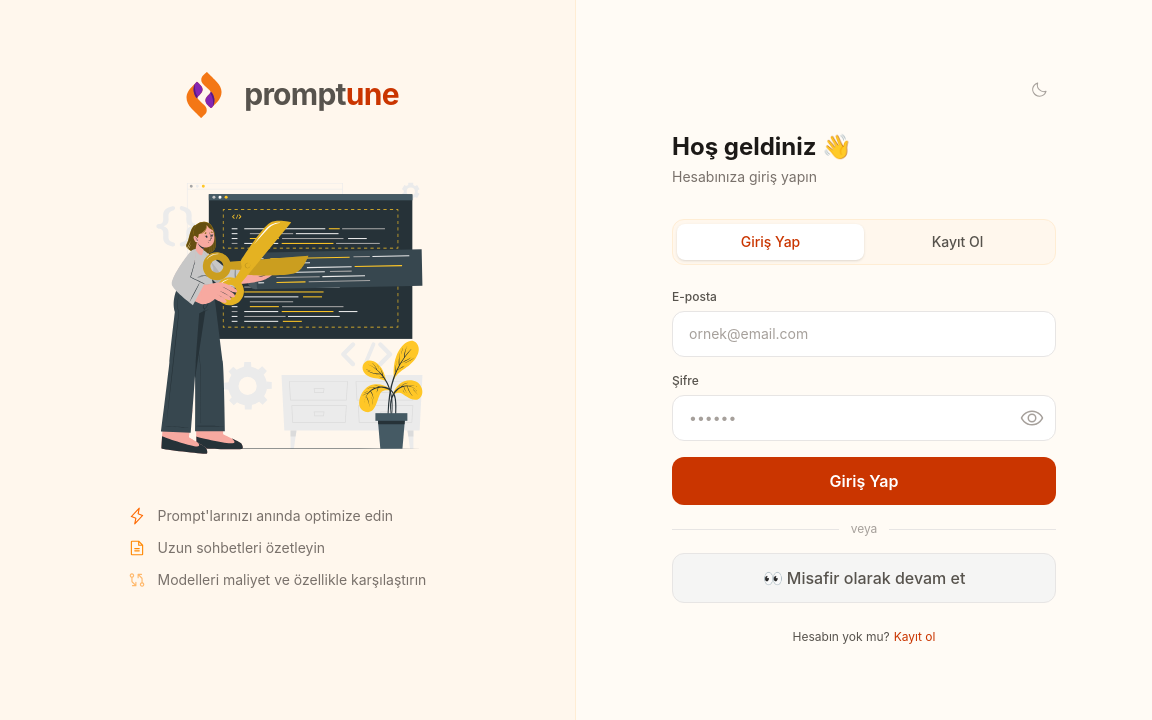
Scenario: Auth MSW — sunucu hata döndürünce › 401 gelince hata mesajı ekranda görünmeli
The image size is (1152, 720).
Type "yanlis@test.com" into the field with placeholder "ornek@email.com". click: point(864, 334)
box: [672,311,1056,357]
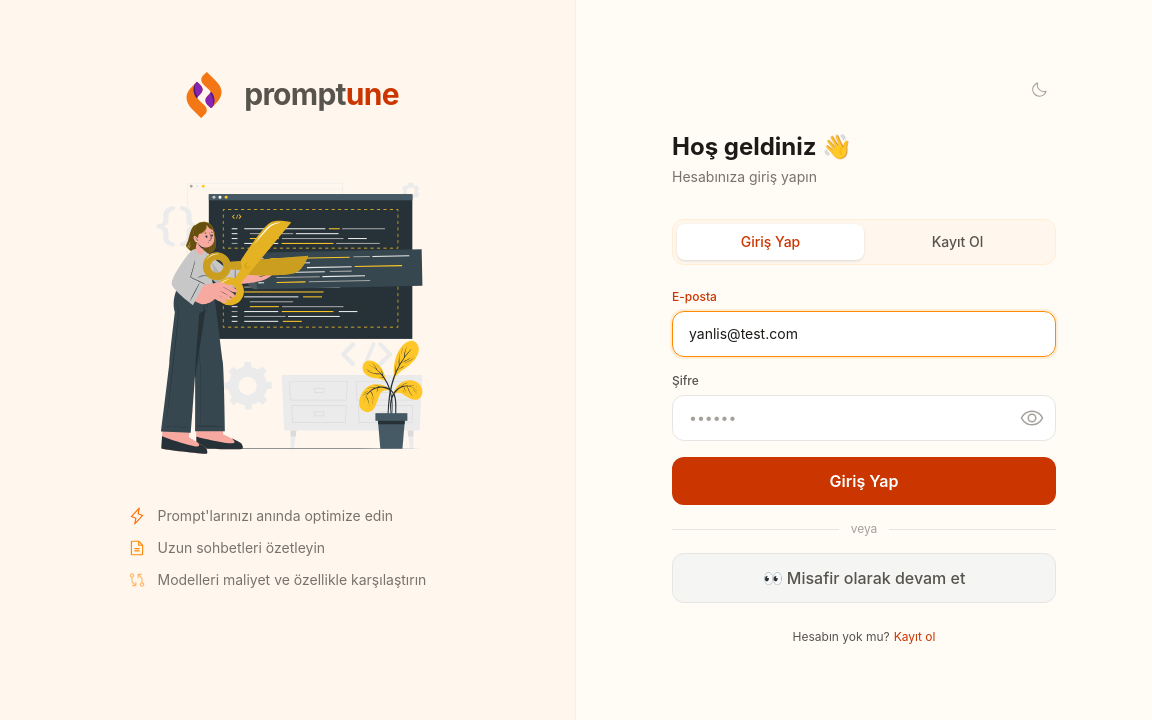
Type "yanlis" into the password field with placeholder "••••••". click: point(864, 418)
box: [672,395,1056,441]
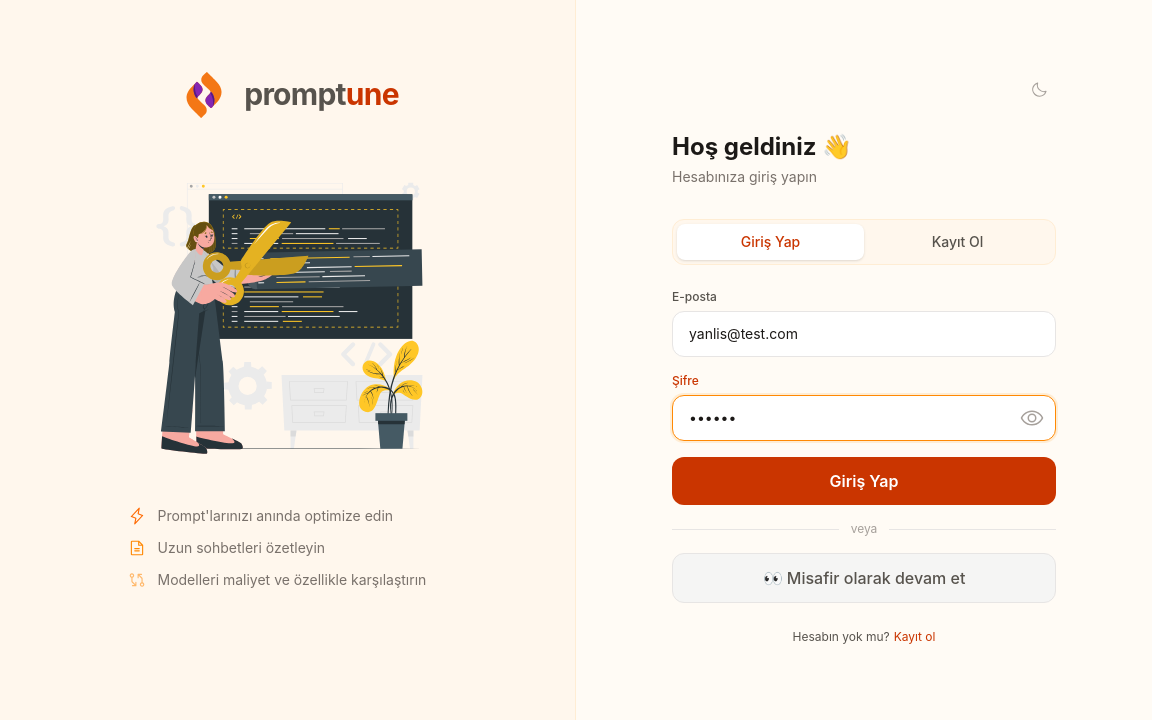
Click the button "Giriş Yap" below "Şifre". click: point(864, 481)
box: [672,457,1056,505]
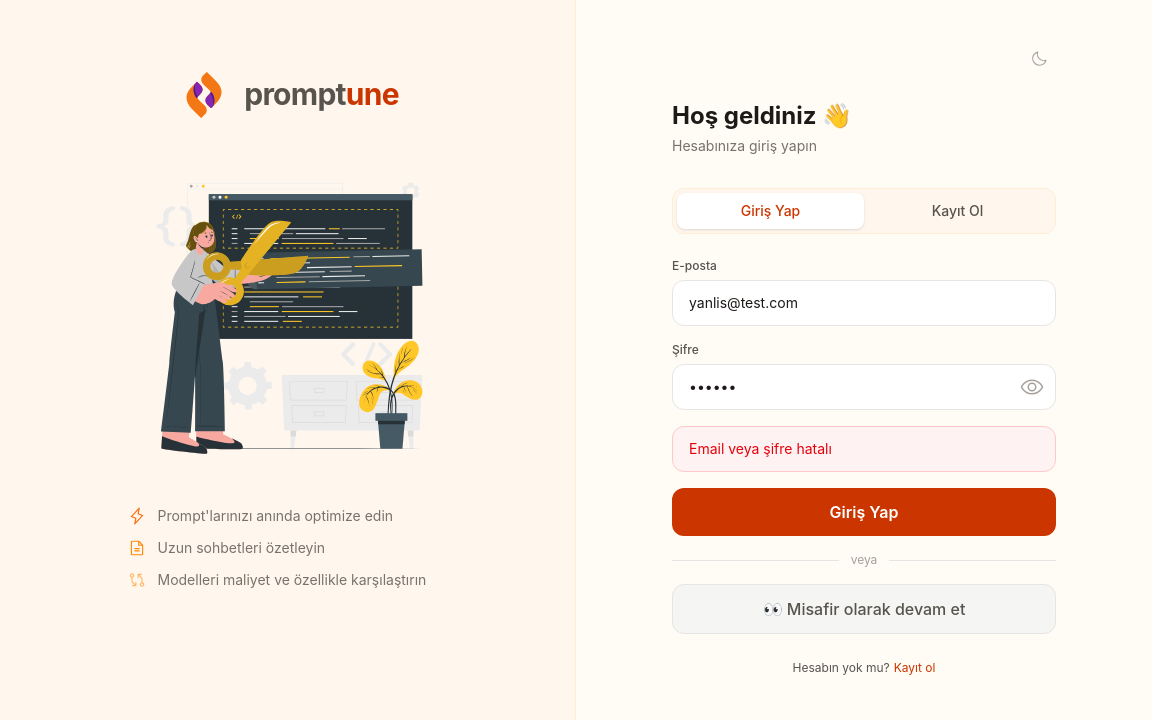
Now the text "Email veya şifre hatalı" is shown, box [689,440,832,457]
